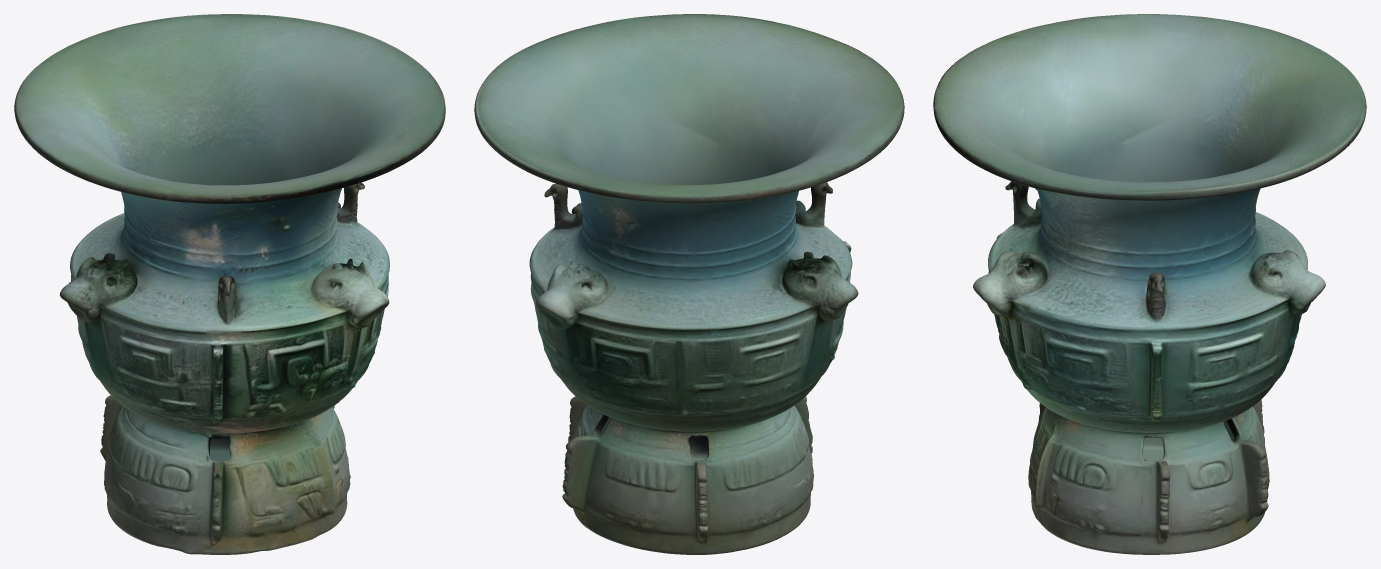
File: sanyangzun-compressed.glb
3 renders of one model, left to right at view 1: azimuth 30°, elevation 25°; view 2: azimuth 150°, elevation 25°; view 3: azimuth 270°, elevation 25°, orthographic.
Visible parts, largest first — view 1: node_0; view 2: node_0; view 3: node_0.
Boxes of the visible parts, x1,y1,x2,y2 form: node_0: (14, 14, 445, 554); node_0: (474, 14, 904, 554); node_0: (933, 14, 1366, 554).
Size of the model in its own units: 0.8314 by 0.8641 by 0.835.
Materials: 1 (1 with a texture image).
